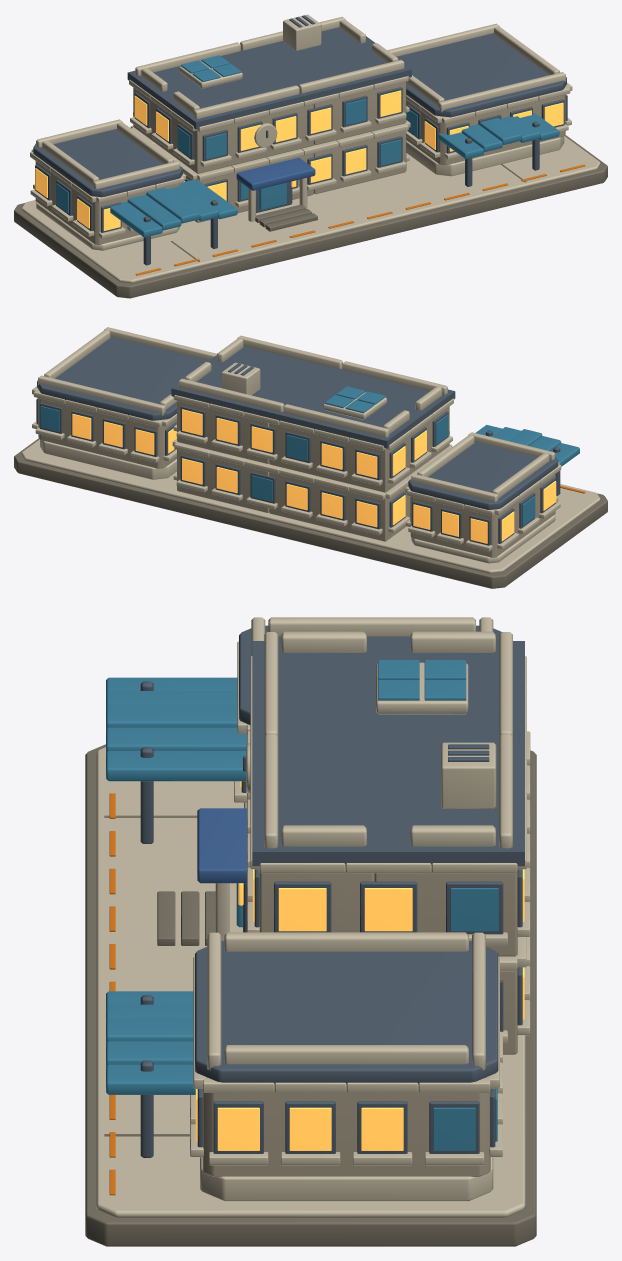
The model's file is civilian-station-normal.glb.
3 views of the same model, one above another, from view 1: azimuth 30°, elevation 25°; view 2: azimuth 150°, elevation 25°; view 3: azimuth 270°, elevation 25° (orthographic). The views are drawn at different scales.
Visible parts, largest first — view 1: CivilianShell; view 2: CivilianShell; view 3: CivilianShell.
Part boxes in pixels (x1=…): CivilianShell: x1=14, y1=14, x2=607, y2=298; CivilianShell: x1=14, y1=327, x2=607, y2=588; CivilianShell: x1=85, y1=617, x2=536, y2=1246.
Bounding box in the file's own units: 4.97 × 1.38 × 1.98.
